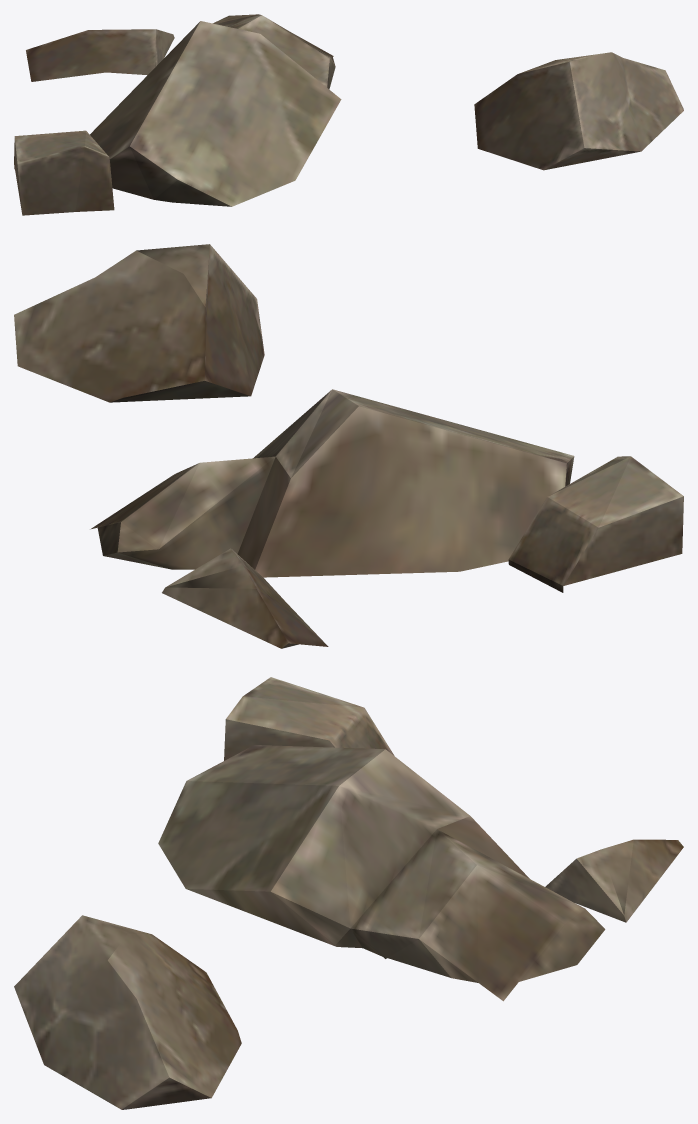
File: nashgar_rubble_ruinswall_a01.FBX
The picture shows the model from 3 angles, top to bottom: view 1: azimuth 30°, elevation 25°; view 2: azimuth 150°, elevation 25°; view 3: azimuth 270°, elevation 25°; orthographic projection. The views are drawn at different scales.
Visible parts, largest first — view 1: nashgar_rubble_ruinswall_a01; view 2: nashgar_rubble_ruinswall_a01; view 3: nashgar_rubble_ruinswall_a01.
Boxes of the visible parts, x1,y1,x2,y2 form: nashgar_rubble_ruinswall_a01: (14, 14, 683, 215); nashgar_rubble_ruinswall_a01: (14, 244, 683, 648); nashgar_rubble_ruinswall_a01: (14, 677, 683, 1109).
Size of the model in its own units: 4.02 by 0.7274 by 3.08.
